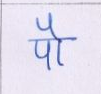ai_matra: (36, 14, 61, 38)
